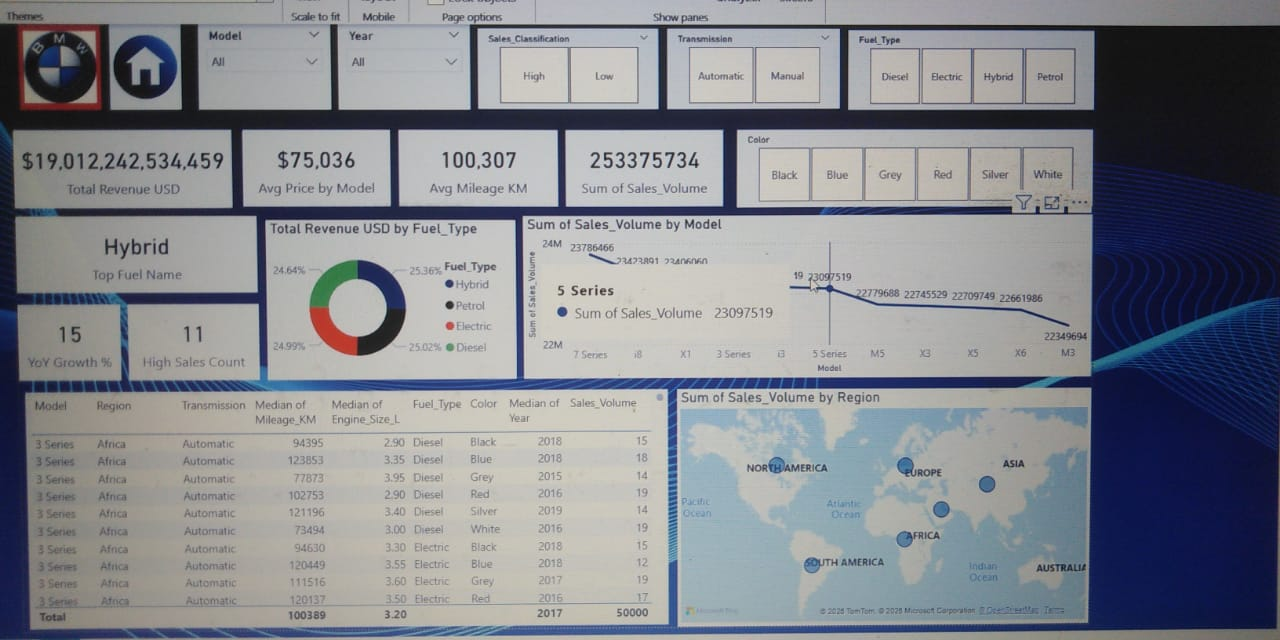

What the dashboard file says about the page in this screenshot:
{"tool":"powerbi","page":{"name":"Sales Overview","canvas":[1280,720],"ordinal":0},"visuals":[{"type":"image","box":[9.8,0,94.2,100.3],"z":0},{"type":"image","box":[113.7,0,84.4,100.3],"z":1000},{"type":"slicer","fields":{"Values":["BMW sales data (2010-2024) (1).Model"]},"box":[217.7,0,155.3,100.3],"z":2000},{"type":"slicer","fields":{"Values":["BMW sales data (2010-2024) (1).Color"]},"box":[852.3,123.5,426.8,91.7],"z":3000},{"type":"card","fields":{"Values":["Sum(BMW sales data (2010-2024) (1).Sales_Volume)"]},"box":[648.1,123.5,188.3,90.5],"z":4000},{"type":"slicer","fields":{"Values":["BMW sales data (2010-2024) (1).Transmission"]},"box":[769.2,4.9,205.4,94.2],"z":5000},{"type":"slicer","fields":{"Values":["BMW sales data (2010-2024) (1).Fuel_Type"]},"box":[984.4,6.1,295.9,94.2],"z":6000},{"type":"slicer","fields":{"Values":["BMW sales data (2010-2024) (1).Sales_Classification"]},"box":[545.4,4.9,214,94.2],"z":7000},{"type":"map","fields":{"Size":["Sum(BMW sales data (2010-2024) (1).Sales_Volume)"],"Category":["BMW sales data (2010-2024) (1).Region"]},"box":[780.2,432.9,500.1,287.4],"z":8000},{"type":"slicer","fields":{"Values":["BMW sales data (2010-2024) (1).Year"]},"box":[381.5,0,155.3,100.3],"z":9000},{"type":"tableEx","fields":{"Values":["BMW sales data (2010-2024) (1).Model","BMW sales data (2010-2024) (1).Region","BMW sales data (2010-2024) (1).Transmission","Median(BMW sales data (2010-2024) (1).Mileage_KM)","Median(BMW sales data (2010-2024) (1).Engine_Size_L)","BMW sales data (2010-2024) (1).Fuel_Type","BMW sales data (2010-2024) (1).Color","Median(BMW sales data (2010-2024) (1).Year)","CountNonNull(BMW sales data (2010-2024) (1).Sales_Volume)"]},"box":[6.1,432.9,763,283.7],"z":10000},{"type":"card","fields":{"Values":["BMW sales data.Avg Mileage KM"]},"box":[451.2,123.5,188.3,90.5],"z":11000},{"type":"card","fields":{"Values":["BMW sales data.Total Revenue USD"]},"box":[0,123.5,255.6,91.7],"z":12000},{"type":"card","fields":{"Values":["BMW sales data.Avg Price by Car"]},"box":[267.8,123.5,173.6,90.5],"z":13000},{"type":"card","fields":{"Values":["BMW sales data.YoY Growth %"]},"box":[0,328.9,121.1,90.5],"z":14000},{"type":"card","fields":{"Values":["BMW sales data.Top Fuel Name"]},"box":[0,225,283.7,90.5],"z":15000},{"type":"card","fields":{"Values":["BMW sales data.High Sales Count"]},"box":[129.6,328.9,154.1,90.5],"z":16000},{"type":"lineChart","fields":{"Category":["BMW sales data.Model"],"Y":["Sum(BMW sales data.Sales_Volume)"]},"box":[596.7,225,682.3,194.4],"z":17000},{"type":"donutChart","fields":{"Category":["BMW sales data.Fuel_Type"],"Y":["BMW sales data.Total Revenue USD"]},"box":[293.5,229.9,294.7,189.5],"z":18000}]}

Visuals, with their boxes in screenshot pixels (x1, y1, x2, y2):
image: [x1=18, y1=20, x2=98, y2=105]
image: [x1=106, y1=20, x2=177, y2=105]
slicer - BMW sales data (2010-2024) (1).Model: [x1=194, y1=20, x2=325, y2=105]
slicer - BMW sales data (2010-2024) (1).Color: [x1=731, y1=124, x2=1092, y2=202]
card - Sum(BMW sales data (2010-2024) (1).Sales_Volume): [x1=558, y1=124, x2=717, y2=201]
slicer - BMW sales data (2010-2024) (1).Transmission: [x1=660, y1=24, x2=834, y2=104]
slicer - BMW sales data (2010-2024) (1).Fuel_Type: [x1=842, y1=25, x2=1093, y2=105]
slicer - BMW sales data (2010-2024) (1).Sales_Classification: [x1=471, y1=24, x2=652, y2=104]
map - Sum(BMW sales data (2010-2024) (1).Sales_Volume) x BMW sales data (2010-2024) (1).Region: [x1=670, y1=386, x2=1093, y2=629]
slicer - BMW sales data (2010-2024) (1).Year: [x1=333, y1=20, x2=464, y2=105]
tableEx - BMW sales data (2010-2024) (1).Model x BMW sales data (2010-2024) (1).Region: [x1=15, y1=386, x2=660, y2=626]
card - BMW sales data.Avg Mileage KM: [x1=391, y1=124, x2=551, y2=201]
card - BMW sales data.Total Revenue USD: [x1=10, y1=124, x2=226, y2=202]
card - BMW sales data.Avg Price by Car: [x1=236, y1=124, x2=383, y2=201]
card - BMW sales data.YoY Growth %: [x1=10, y1=298, x2=112, y2=375]
card - BMW sales data.Top Fuel Name: [x1=10, y1=210, x2=250, y2=287]
card - BMW sales data.High Sales Count: [x1=120, y1=298, x2=250, y2=375]
lineChart - BMW sales data.Model x Sum(BMW sales data.Sales_Volume): [x1=515, y1=210, x2=1091, y2=375]
donutChart - BMW sales data.Fuel_Type x BMW sales data.Total Revenue USD: [x1=258, y1=214, x2=507, y2=375]
